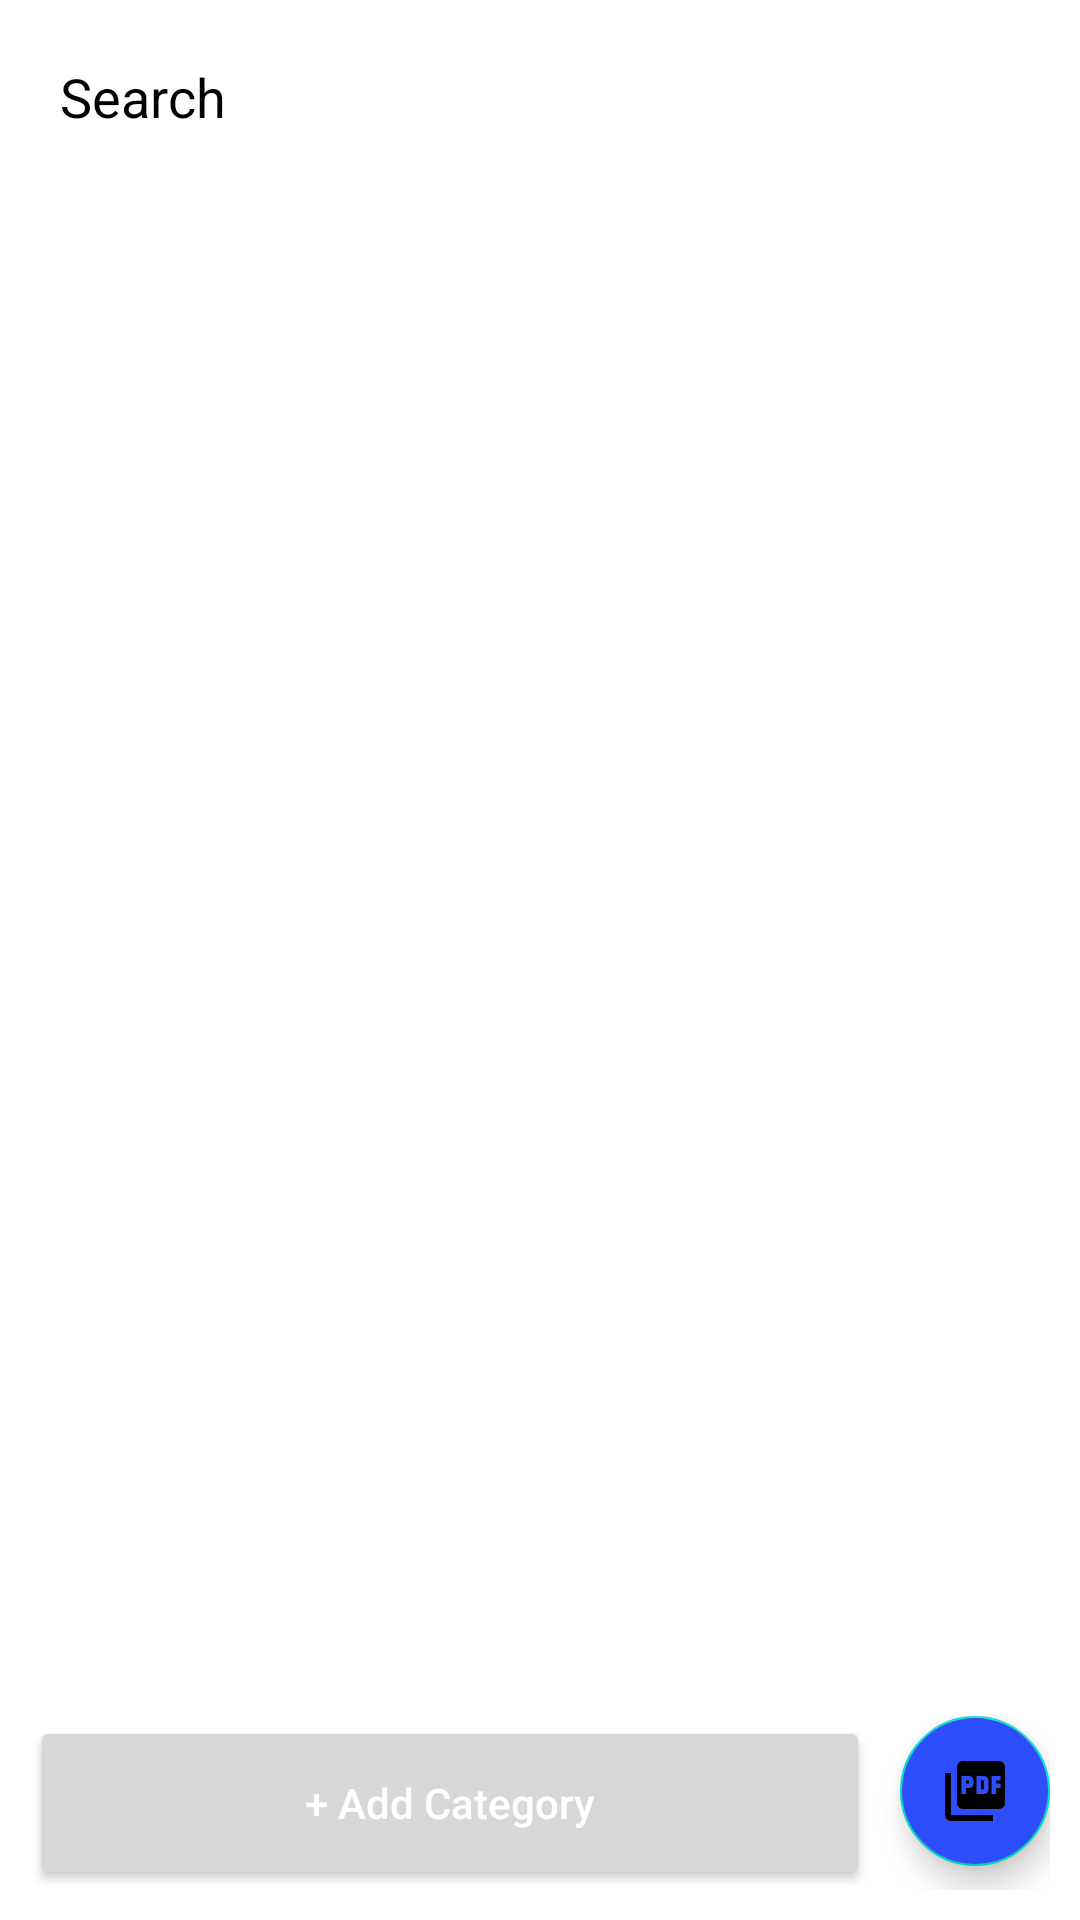

Where to tap for icons on this 1080×1920 app screen, as (x,y):
picture as pdf: (975,1791)
